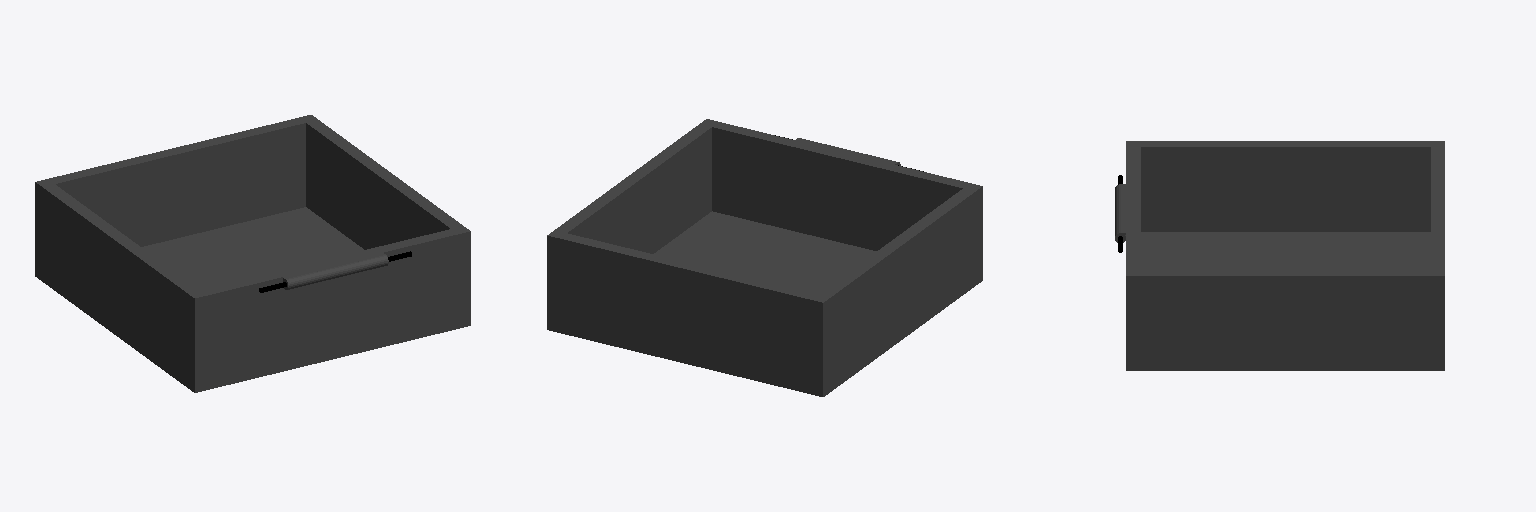
File: base_boite.obj
3 renders of one model, left to right at view 1: azimuth 30°, elevation 25°; view 2: azimuth 150°, elevation 25°; view 3: azimuth 270°, elevation 25°, orthographic.
Parts seen in each view (by area): view 1: Base_boite; view 2: Base_boite; view 3: Base_boite.
Part boxes in pixels (bbox=[...]): Base_boite: bbox=[35, 115, 470, 392]; Base_boite: bbox=[547, 119, 982, 396]; Base_boite: bbox=[1115, 141, 1444, 370].
Bounding box in the file's own units: 550 × 180 × 570.